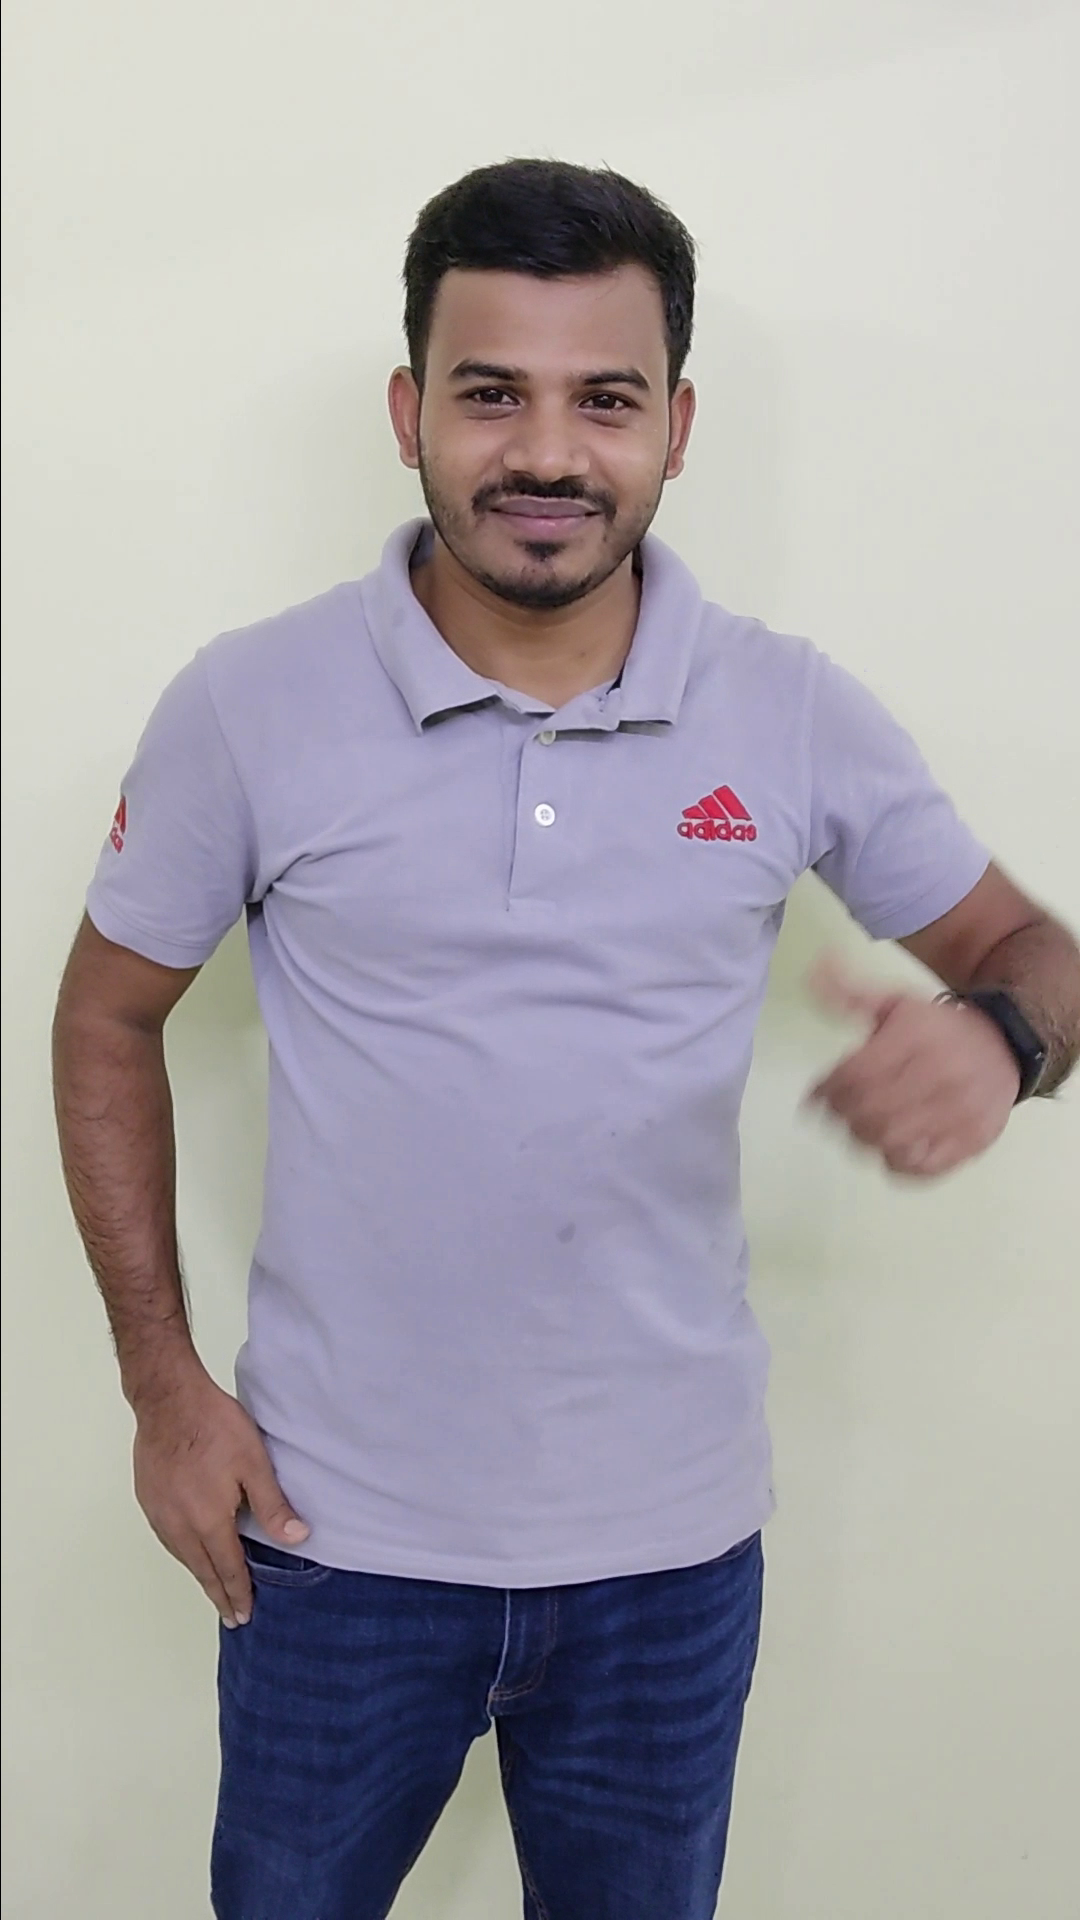Like: (766, 938, 1064, 1193)
None: (94, 1360, 318, 1651)
